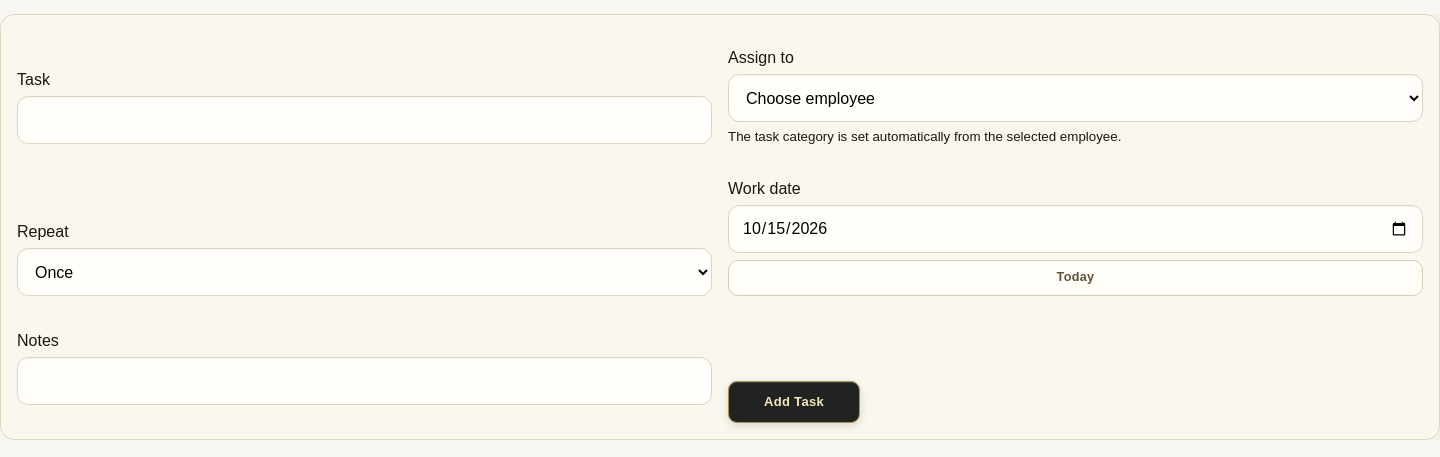
Test case: submits the selected Once date and can reset it to today in Malaysia
Type "2026-10-21" into the date field labelled "Work date Today" at (1076, 229), box [728, 205, 1423, 253]
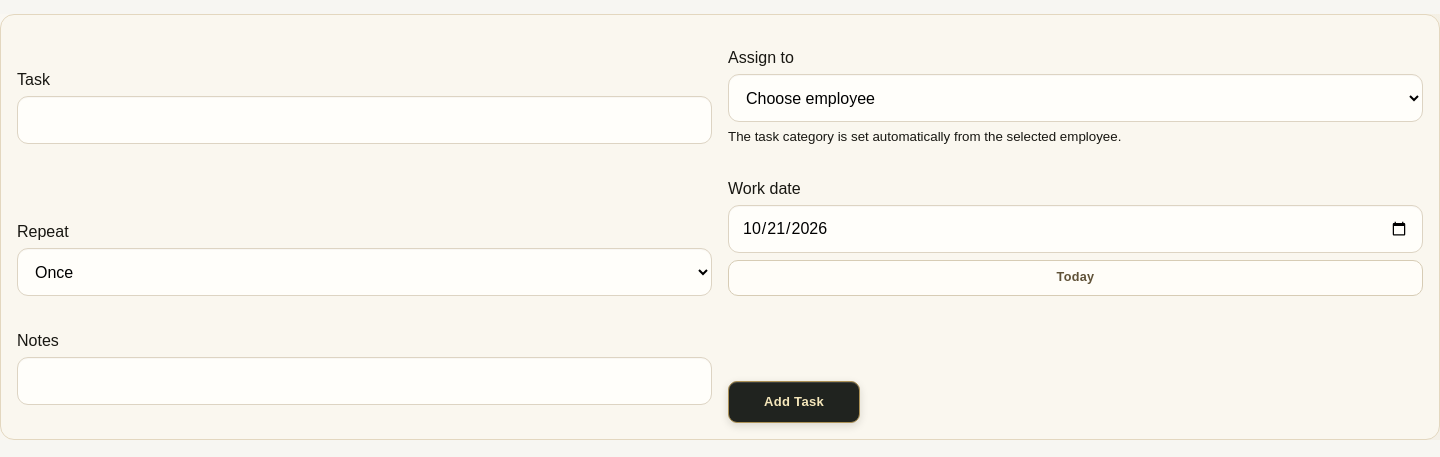
Click the button "Today" at (1076, 278), box [728, 260, 1423, 296]
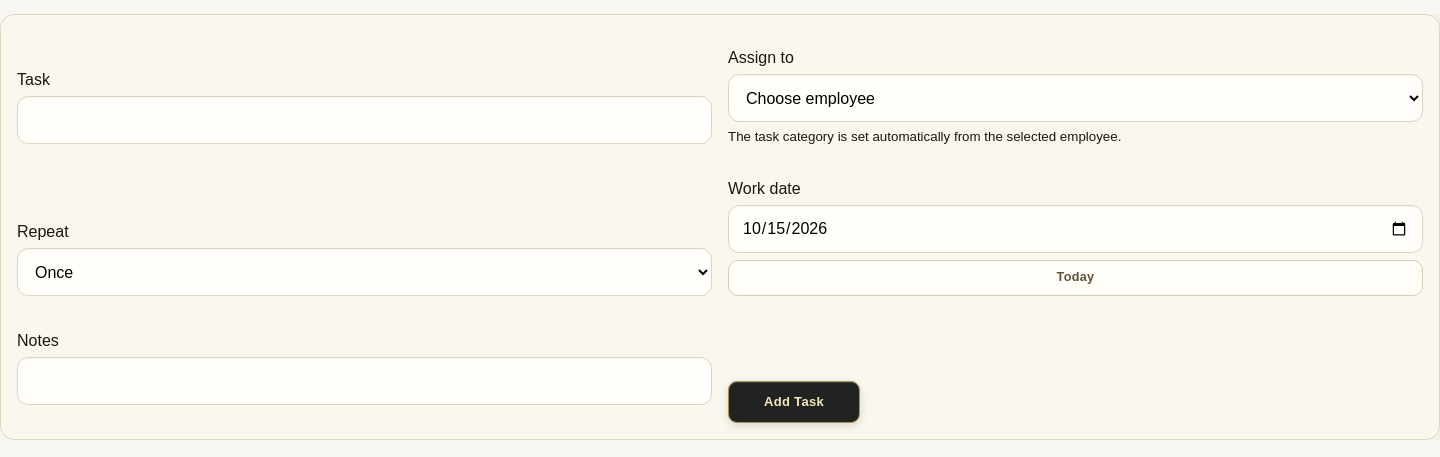
Check: the date field labelled "Work date Today" holds "2026-10-15", box [728, 205, 1423, 253]
